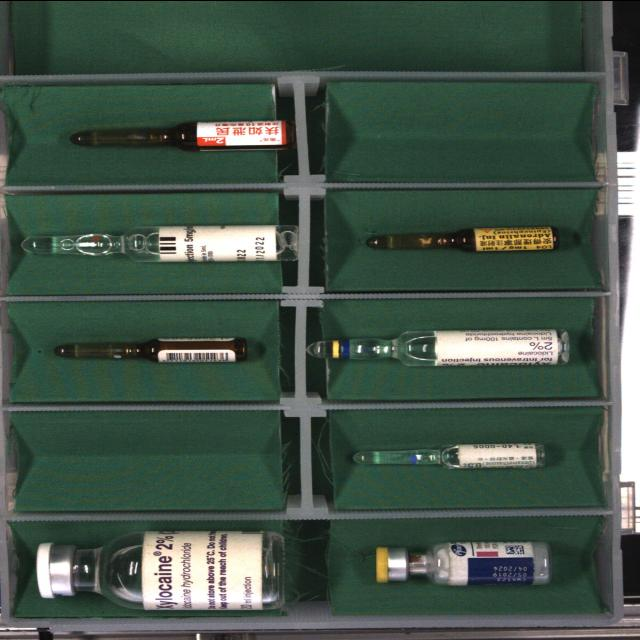Vials: (36, 530, 286, 610), (375, 541, 551, 584)
